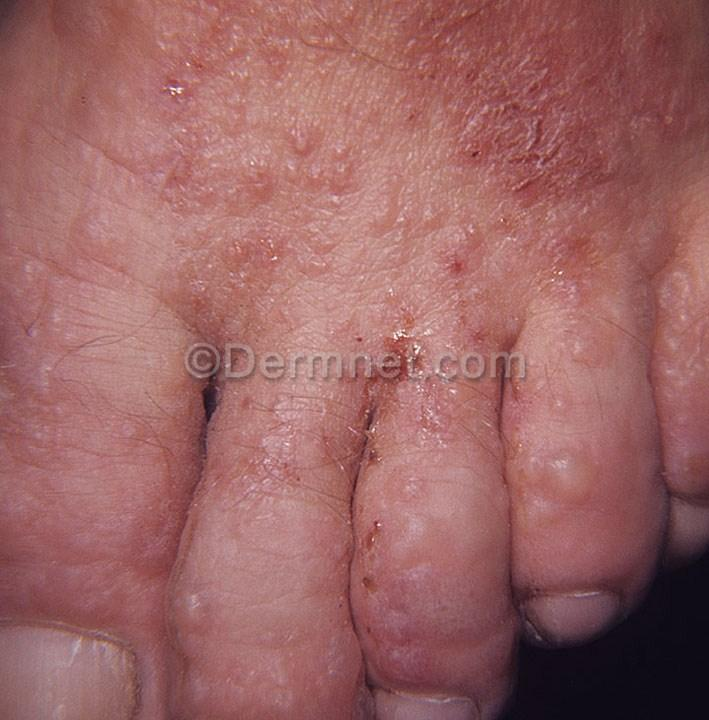Eczema: (166, 3, 450, 289), (465, 13, 652, 235), (8, 375, 161, 625), (169, 575, 347, 715), (326, 382, 483, 507), (358, 513, 463, 684), (505, 429, 621, 543), (65, 172, 143, 317), (226, 389, 314, 505), (43, 0, 141, 64), (542, 243, 628, 312), (367, 295, 455, 341), (558, 332, 622, 388)
